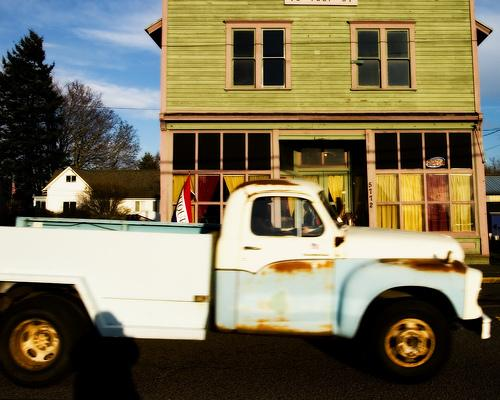truck: (0, 179, 493, 387)
